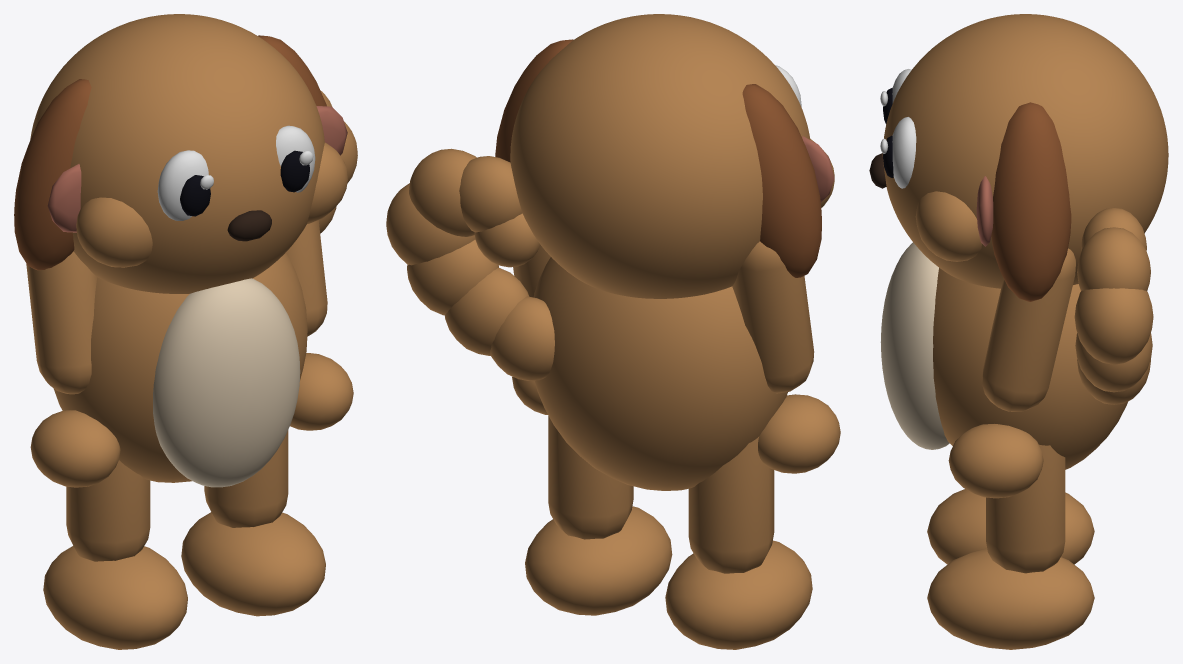
File: dog.glb
3 renders of one model, left to right at view 1: azimuth 30°, elevation 25°; view 2: azimuth 150°, elevation 25°; view 3: azimuth 270°, elevation 25°, orthographic. The views are drawn at different scales.
Visible parts, largest first — view 1: dog; view 2: dog; view 3: dog.
Boxes of the visible parts, box(x1,y1,x2,y2) form: dog: box(14, 14, 357, 649); dog: box(386, 14, 840, 649); dog: box(869, 14, 1168, 649).
Bounding box in the file's own units: 0.7723 × 1.15 × 0.5376.
